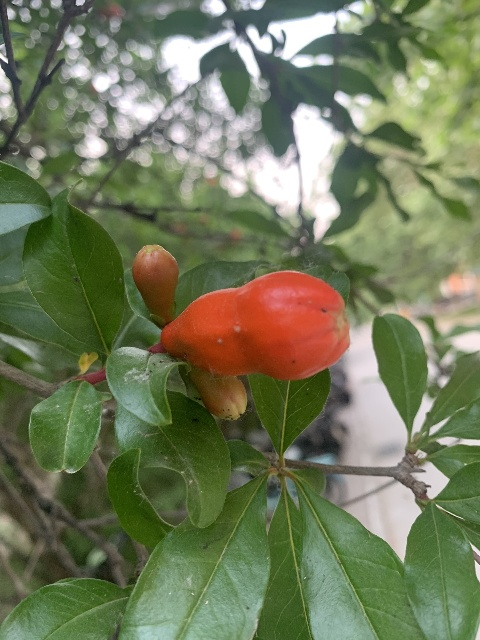bud: (162, 270, 350, 382), (132, 244, 179, 320), (189, 367, 246, 419)
